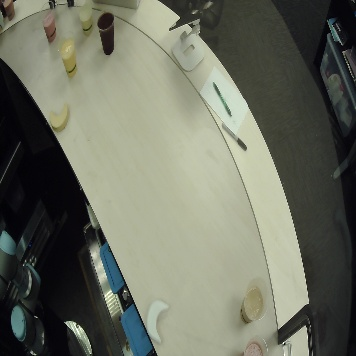full_cup: (241, 277, 270, 324), (56, 30, 79, 77), (95, 8, 118, 55), (32, 1, 57, 43), (75, 1, 94, 35), (242, 334, 268, 355), (2, 1, 15, 20)
puck: (146, 298, 170, 343), (48, 104, 70, 131)
